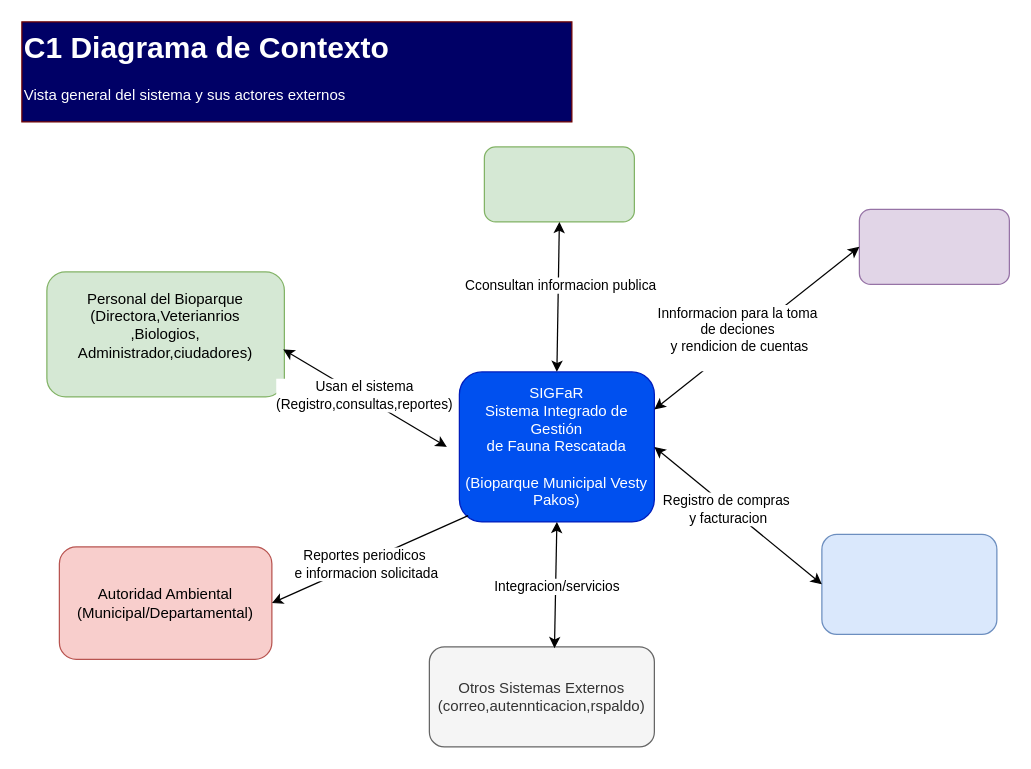
Image size: 1031x769. Some labels were removed from this diagram. Here are the shapes that lost their labels. From the top down, the box of each, then its label:
(483, 146, 634, 222): Ciudadanos/Donantes
(858, 208, 1009, 284): Gobierno Mmunicipal (La Paz)
(821, 533, 997, 634): Proveedores (Insumos,alimentos ,medicamentos
